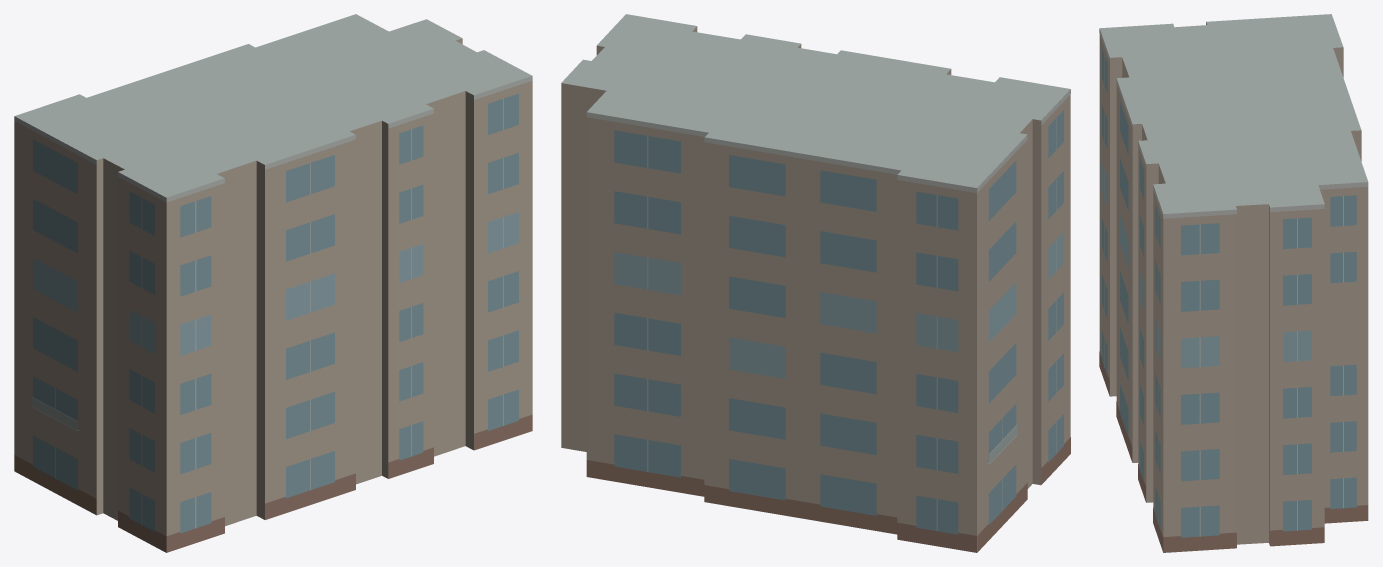
The model's file is survey-upis-32748746.glb.
3 views of the same model, side by side, from view 1: azimuth 30°, elevation 25°; view 2: azimuth 150°, elevation 25°; view 3: azimuth 270°, elevation 25° (orthographic). The views are drawn at different scales.
Parts seen in each view (by area): view 1: survey-upis-32748746.tmp; view 2: survey-upis-32748746.tmp; view 3: survey-upis-32748746.tmp.
Boxes of the visible parts, x1,y1,x2,y2 form: survey-upis-32748746.tmp: (14,14,532,552); survey-upis-32748746.tmp: (561,14,1070,552); survey-upis-32748746.tmp: (1099,14,1368,552).
Bounding box in the file's own units: 22.69 × 17.9 × 12.89.
